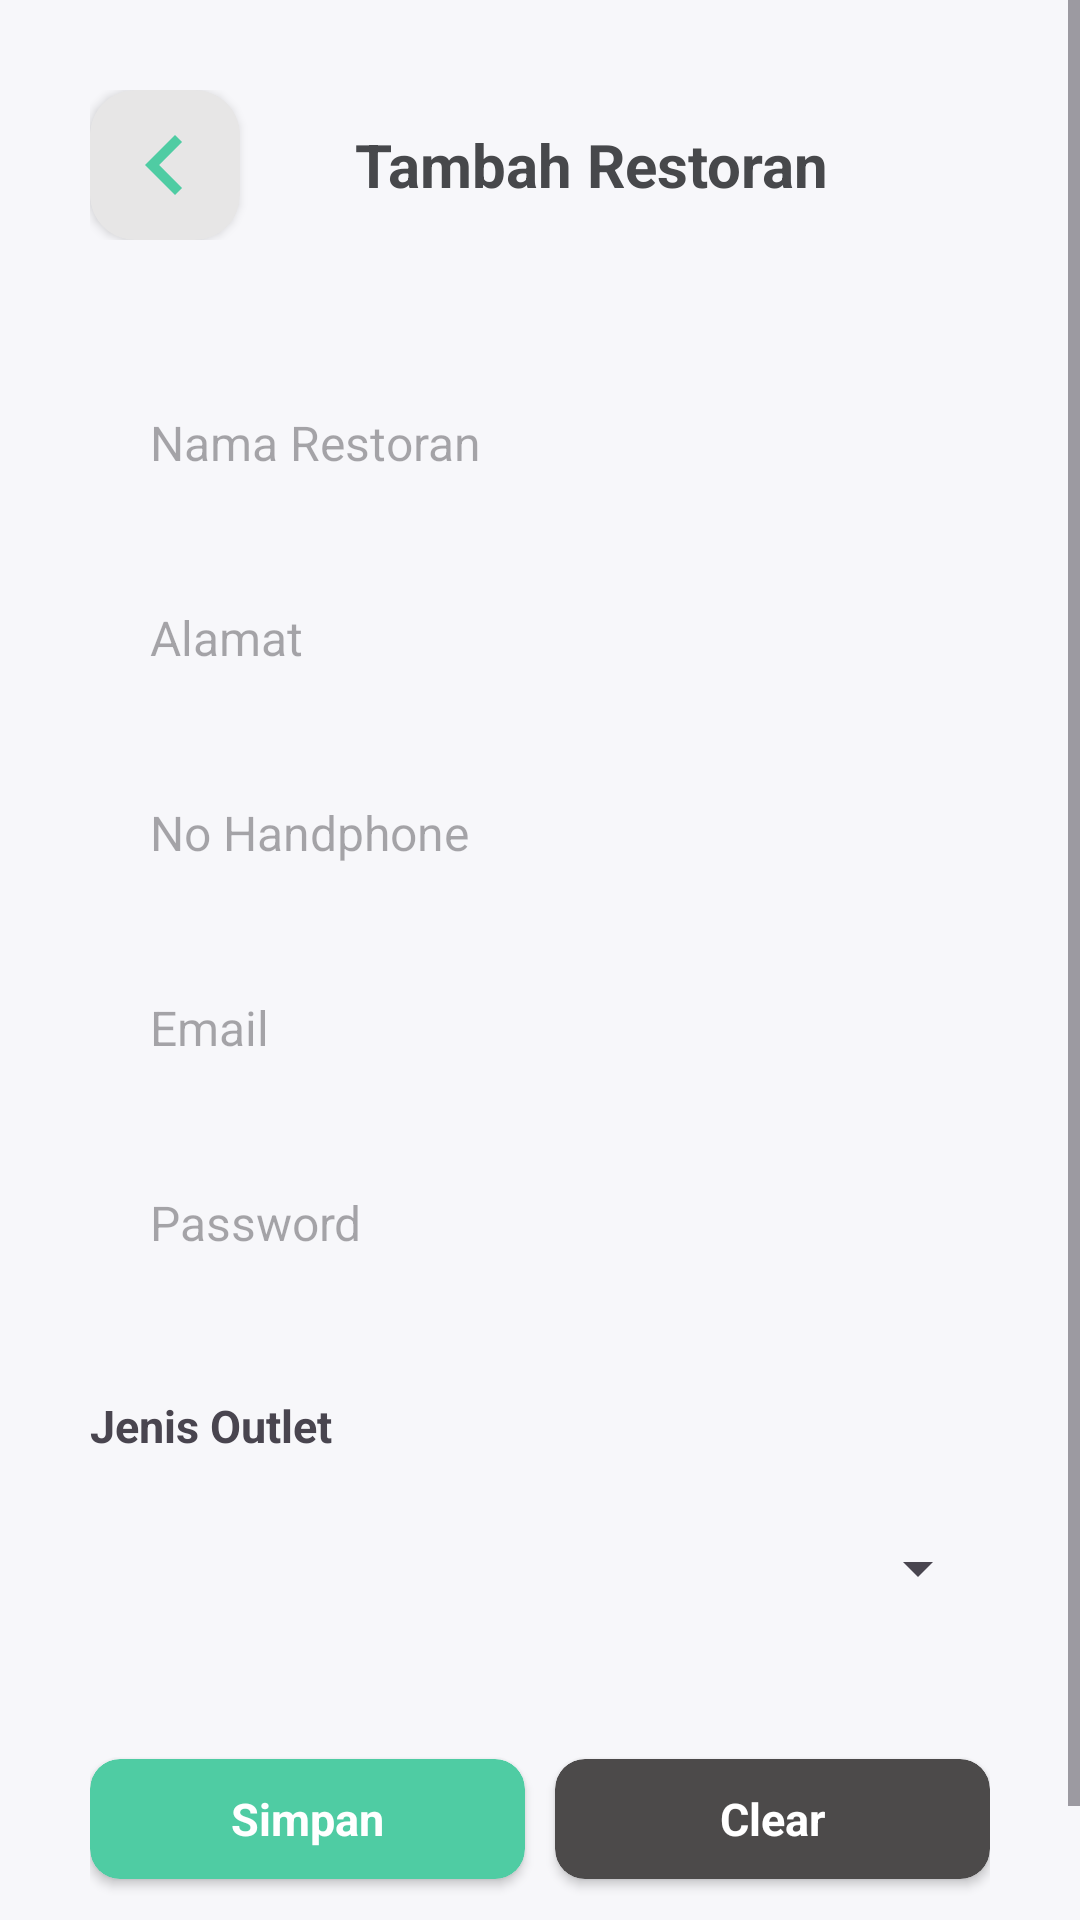

Icon bounding boxes for this 1080 × 1920 phone screenshot, format [left=x1, top=y1, right=x2, bottom=y2]:
chevron left: [left=145, top=135, right=182, bottom=195]
